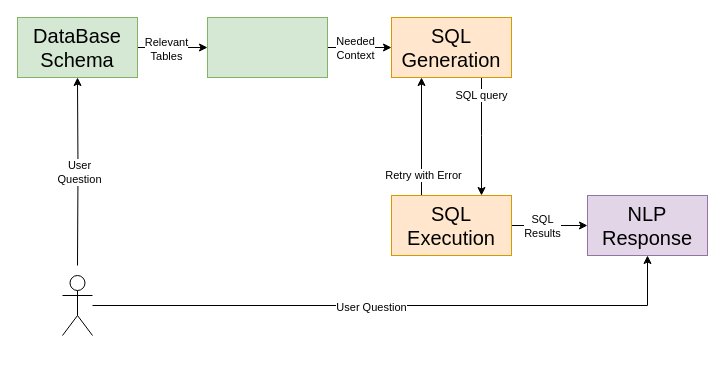
The diagram is 725 pixels wide and 374 high, and some of its shapes have lost their labels. The centre of each missing label's shape, as x and y in pixels:
"Actor" belongs at point (77, 305).
"Prepare Context" belongs at point (267, 47).
